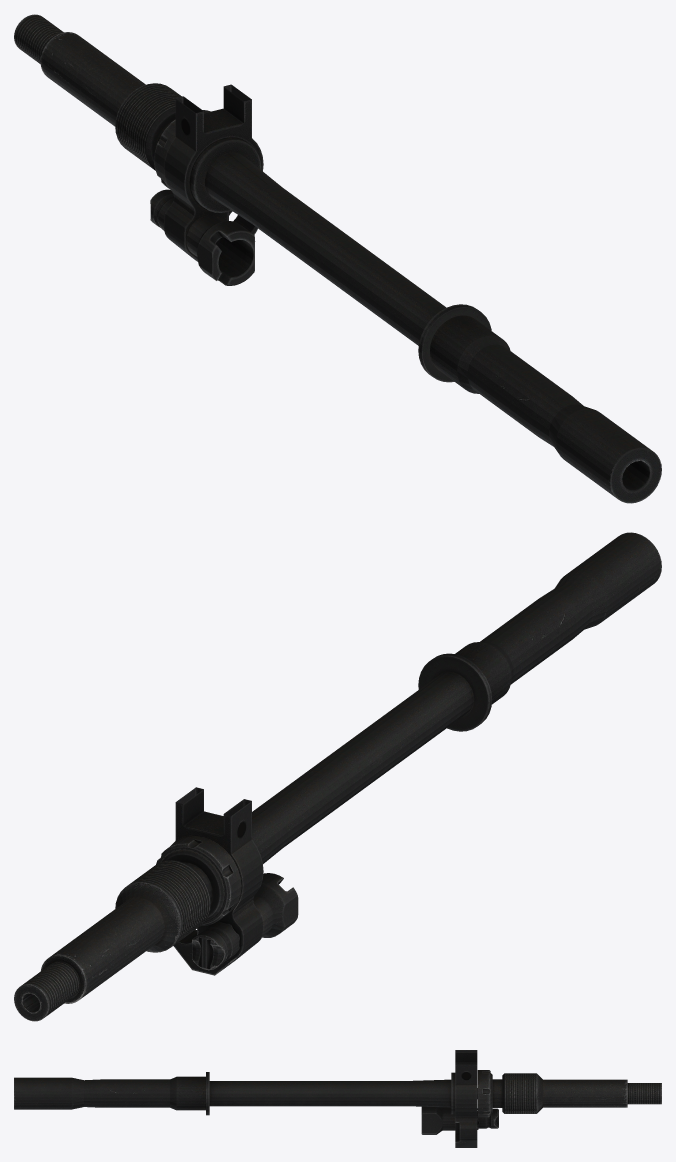
The picture shows the model from 3 angles, top to bottom: view 1: azimuth 30°, elevation 25°; view 2: azimuth 150°, elevation 25°; view 3: azimuth 270°, elevation 25°; orthographic projection. The views are drawn at different scales.
Parts seen in each view (by area): view 1: TW_5f2aa46b878ef416f538b567_PZ_Import; view 2: TW_5f2aa46b878ef416f538b567_PZ_Import; view 3: TW_5f2aa46b878ef416f538b567_PZ_Import.
Part boxes in pixels (x1,y1,x2,y2): TW_5f2aa46b878ef416f538b567_PZ_Import: (14, 14, 661, 503); TW_5f2aa46b878ef416f538b567_PZ_Import: (14, 532, 661, 1021); TW_5f2aa46b878ef416f538b567_PZ_Import: (14, 1050, 661, 1147).
Size of the model in its own units: 0.0209 by 0.2653 by 0.0396.
1 material, 1 textured.
